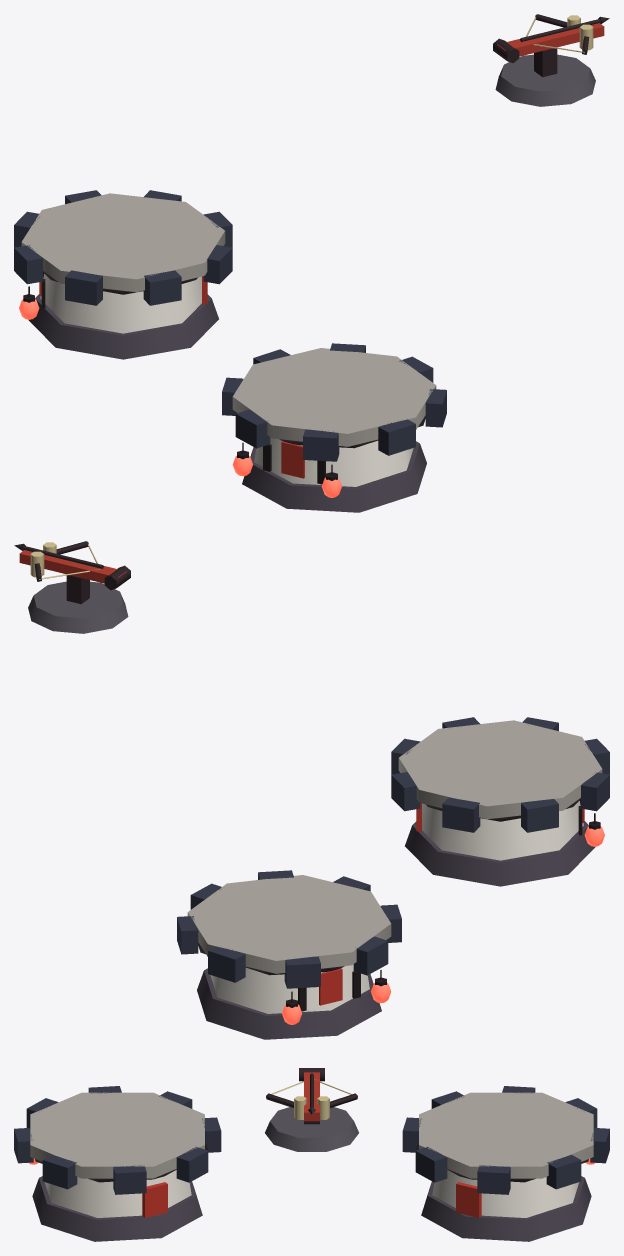
The model's file is base_standard_weapon_2.glb.
3 views of the same model, one above another, from view 1: azimuth 30°, elevation 25°; view 2: azimuth 150°, elevation 25°; view 3: azimuth 270°, elevation 25° (orthographic). The views are drawn at different scales.
Parts seen in each view (by area): view 1: tower_slot_2_plate, tower_slot_1_plate, tower_slot_1_footing, tower_slot_2_footing, tower_slot_1_tower, weapon_mount, tower_slot_2_tower, tower_slot_1_merlon_6, tower_slot_1_merlon_5, ballista_stock, tower_slot_2_merlon_6, tower_slot_2_merlon_7 (+5 smaller); view 2: tower_slot_1_plate, tower_slot_2_plate, tower_slot_2_footing, tower_slot_1_footing, tower_slot_2_tower, weapon_mount, tower_slot_1_tower, tower_slot_2_merlon_2, ballista_stock, tower_slot_1_merlon_1, tower_slot_2_merlon_1, tower_slot_1_merlon_0 (+5 smaller); view 3: tower_slot_2_plate, tower_slot_1_plate, tower_slot_1_footing, tower_slot_2_footing, tower_slot_1_tower, tower_slot_2_tower, weapon_mount, tower_slot_1_merlon_2, tower_slot_2_merlon_5, tower_slot_1_merlon_3, tower_slot_2_merlon_4, tower_slot_1_merlon_4 (+14 smaller).
Boxes of the visible parts, left/top/right/bottom form: tower_slot_2_plate: left=232, top=348, right=436, bottom=446; tower_slot_1_plate: left=21, top=193, right=225, bottom=292; tower_slot_1_footing: left=28, top=294, right=218, bottom=359; tower_slot_2_footing: left=242, top=441, right=426, bottom=512; tower_slot_1_tower: left=40, top=274, right=201, bottom=333; weapon_mount: left=495, top=54, right=595, bottom=106; tower_slot_2_tower: left=254, top=437, right=413, bottom=486; tower_slot_1_merlon_6: left=65, top=270, right=102, bottom=305; tower_slot_1_merlon_5: left=143, top=270, right=181, bottom=305; ballista_stock: left=497, top=23, right=604, bottom=56; tower_slot_2_merlon_6: left=378, top=419, right=415, bottom=455; tower_slot_2_merlon_7: left=303, top=429, right=339, bottom=461; tower_slot_1_plate: left=187, top=875, right=391, bottom=973; tower_slot_2_plate: left=398, top=720, right=602, bottom=819; tower_slot_2_footing: left=405, top=821, right=595, bottom=886; tower_slot_1_footing: left=197, top=968, right=381, bottom=1039; tower_slot_2_tower: left=422, top=801, right=583, bottom=860; weapon_mount: left=28, top=581, right=128, bottom=633; tower_slot_1_tower: left=210, top=964, right=369, bottom=1013; tower_slot_2_merlon_2: left=442, top=797, right=480, bottom=832; ballista_stock: left=19, top=550, right=126, bottom=583; tower_slot_1_merlon_1: left=208, top=946, right=245, bottom=982; tower_slot_2_merlon_1: left=521, top=799, right=558, bottom=832; tower_slot_1_merlon_0: left=284, top=956, right=320, bottom=988; tower_slot_2_plate: left=30, top=1092, right=204, bottom=1178; tower_slot_1_plate: left=419, top=1092, right=593, bottom=1178; tower_slot_1_footing: left=421, top=1176, right=591, bottom=1241; tower_slot_2_footing: left=32, top=1176, right=202, bottom=1241; tower_slot_1_tower: left=432, top=1170, right=579, bottom=1217; tower_slot_2_tower: left=44, top=1170, right=191, bottom=1217; weapon_mount: left=265, top=1107, right=358, bottom=1151; tower_slot_1_merlon_2: left=546, top=1154, right=581, bottom=1189; tower_slot_2_merlon_5: left=42, top=1154, right=77, bottom=1189; tower_slot_1_merlon_3: left=477, top=1165, right=510, bottom=1194; tower_slot_2_merlon_4: left=113, top=1165, right=146, bottom=1194; tower_slot_1_merlon_4: left=415, top=1147, right=447, bottom=1182.
Bounding box in the file's own units: 0.9745 × 0.559 × 1.13.
